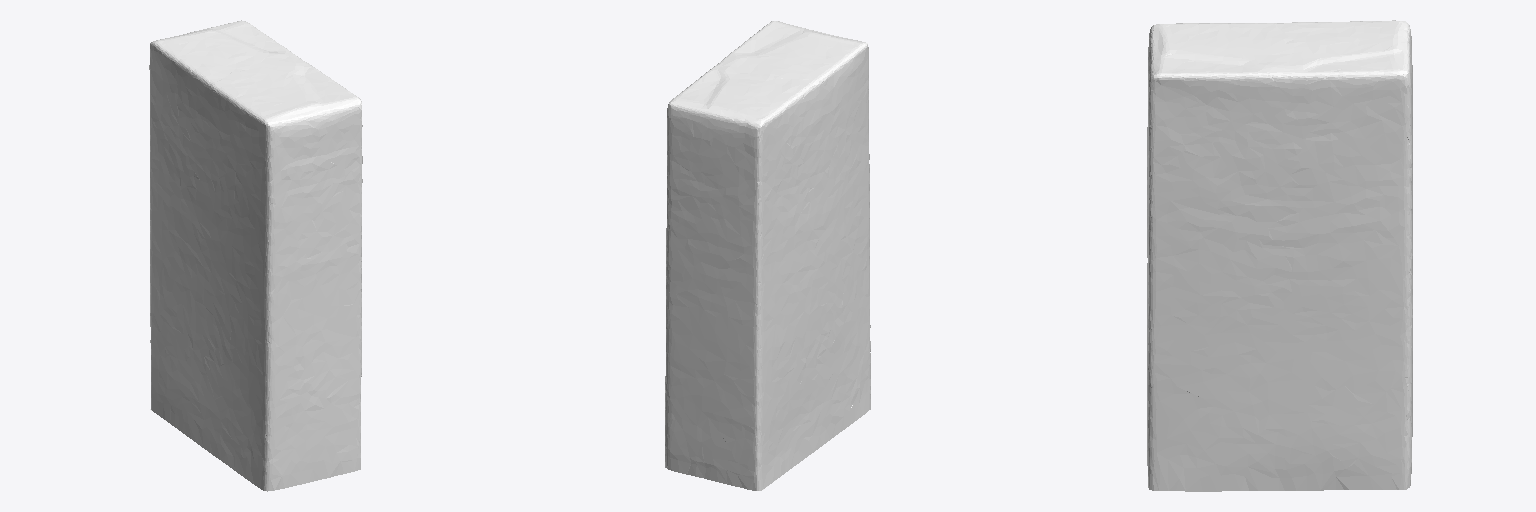
The robot description file, URDF, robot "133_domino_suger_0":
<?xml version='1.0' encoding='utf-8'?>
<robot name="133_domino_suger_0">
        <link name="link_0">
            <visual>
                <origin xyz="0.0 0.0 0.0" rpy="0.0 0.0 0.0" />
                <geometry>
                    <mesh filename="textured_objs/textured.obj" scale="1 1 1.0" />
                </geometry>
                <material name="white">
                    <color rgba="1 1 1 1" />
                </material>
            </visual>
            <collision>
                <origin xyz="0.0 0.0 0.0" rpy="0.0 0.0 0.0" />
                <geometry>
                    <mesh filename="textured_objs/textured.obj" scale="1 1 1.0" />
                </geometry>
            </collision>
            <inertial>
                <mass value="0.1" />
                <inertia ixx="0.0001" ixy="0.0" ixz="0.0" iyy="0.0001" iyz="0.0" izz="0.0001" />
            </inertial>
        </link>
    </robot>

--- Facts derived from the render (not from the file) ---
3 views of the same robot in one strip: view 1: azimuth 30°, elevation 25°; view 2: azimuth 150°, elevation 25°; view 3: azimuth 270°, elevation 25° (orthographic).
Robot: 133_domino_suger_0 — 1 links, 0 joints (none); root link link_0; default pose: every joint at zero.
Links seen in each view (by area): view 1: link_0; view 2: link_0; view 3: link_0.
Link boxes in pixels (box(x1,y1,x2,y2)): link_0: box(149, 20, 362, 491); link_0: box(665, 21, 870, 490); link_0: box(1147, 20, 1412, 491).
Bounding box of the posed robot: 0.0484 × 0.0965 × 0.1668 m (x, y, z).
Meshes: 1 distinct files referenced, 1 mesh visuals loaded (1 OBJ).